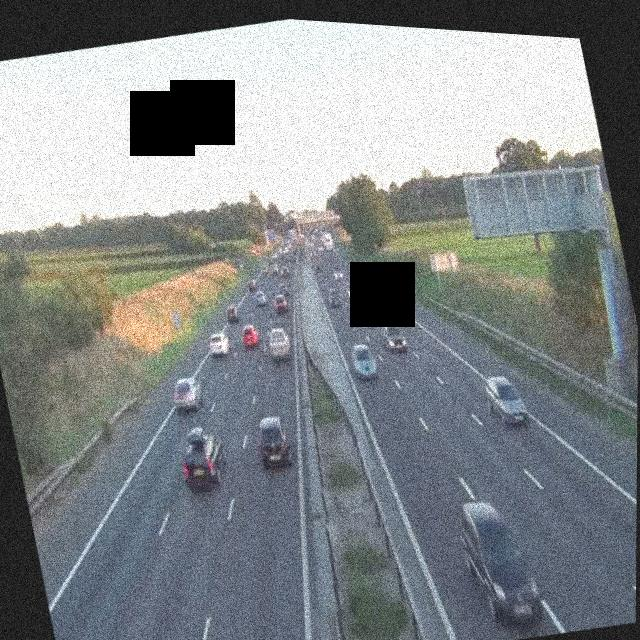car: (452, 491, 546, 633), (175, 422, 230, 496), (481, 368, 529, 429), (253, 411, 296, 470), (170, 374, 206, 415), (349, 338, 378, 381), (266, 326, 293, 363), (381, 319, 407, 353), (206, 328, 232, 359), (238, 321, 261, 349), (327, 285, 344, 309), (272, 292, 288, 315), (224, 303, 239, 322), (345, 279, 359, 299), (253, 288, 267, 307), (333, 266, 344, 281), (246, 278, 257, 291), (280, 262, 290, 276), (312, 258, 322, 271)
truck: (320, 229, 333, 251)
